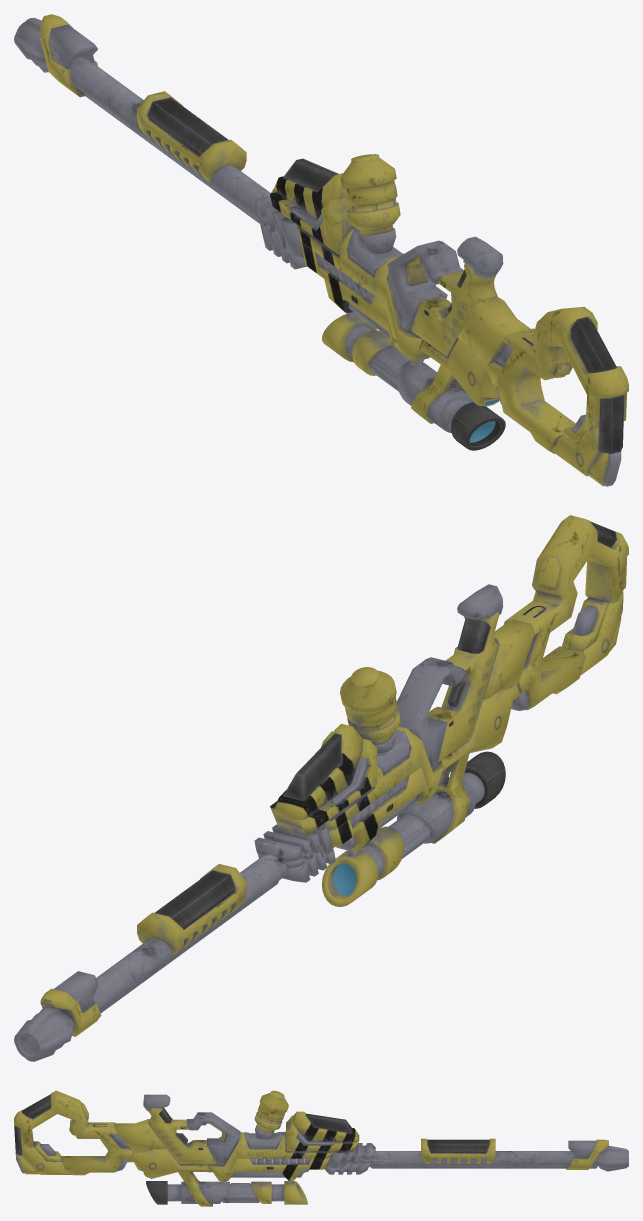
3 views of the same model, one above another, from view 1: azimuth 30°, elevation 25°; view 2: azimuth 150°, elevation 25°; view 3: azimuth 270°, elevation 25° (orthographic). The views are drawn at different scales.
Parts seen in each view (by area): view 1: Object_2, Object_3; view 2: Object_2, Object_3; view 3: Object_2, Object_3.
Part boxes in pixels (x1,y1,x2,y2): Object_2: (40,14,628,486); Object_3: (14,17,624,486); Object_2: (40,515,628,1036); Object_3: (14,521,623,1061); Object_2: (14,1090,608,1206); Object_3: (14,1094,628,1204).
Size of the model in its own units: 0.0451 by 0.1913 by 0.95.
Materials: 2 (2 with a texture image).
